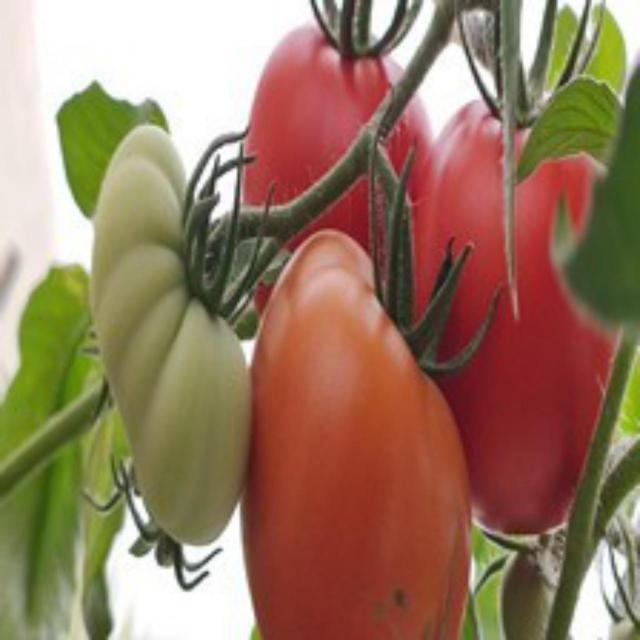tomato: (400, 80, 637, 537), (240, 226, 490, 640), (240, 14, 430, 291)
